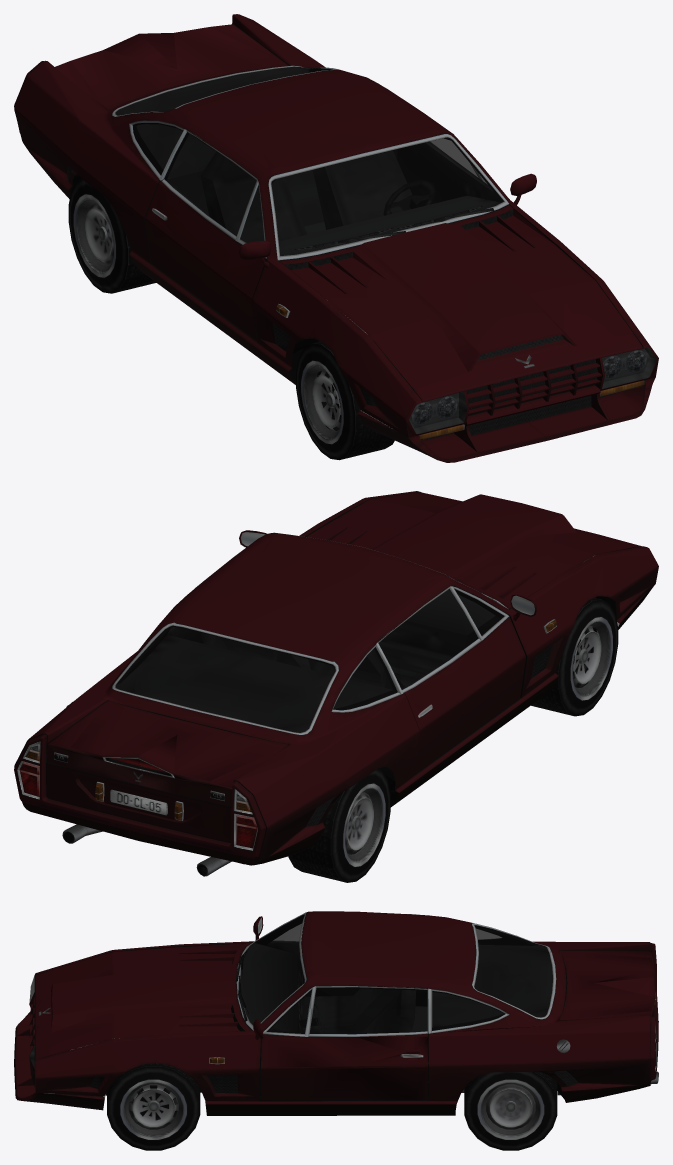
3 views of the same model, one above another, from view 1: azimuth 30°, elevation 25°; view 2: azimuth 150°, elevation 25°; view 3: azimuth 270°, elevation 25° (orthographic). The views are drawn at different scales.
Parts seen in each view (by area): view 1: Car6_hd_mesh_0, Car6_hd_mesh_4, Car6_hd_mesh_2, Car6_hd_mesh_5, Car6_hd_mesh_3, Car6_hd_mesh_6, Car6_hd_mesh_7, Car6_hd_mesh_1; view 2: Car6_hd_mesh_0, Car6_hd_mesh_4, Car6_hd_mesh_2, Car6_hd_mesh_5, Car6_hd_mesh_7, Car6_hd_mesh_6; view 3: Car6_hd_mesh_0, Car6_hd_mesh_4, Car6_hd_mesh_1, Car6_hd_mesh_6.001, Car6_hd_mesh_8, Car6_hd_mesh_5, Car6_hd_mesh_3, Car6_hd_mesh_2.
Part boxes in pixels (left/top/right/bottom): Car6_hd_mesh_0: left=14, top=14, right=658, bottom=437; Car6_hd_mesh_4: left=279, top=204, right=642, bottom=401; Car6_hd_mesh_2: left=145, top=130, right=266, bottom=340; Car6_hd_mesh_5: left=55, top=24, right=288, bottom=109; Car6_hd_mesh_3: left=357, top=377, right=655, bottom=462; Car6_hd_mesh_6: left=296, top=341, right=394, bottom=460; Car6_hd_mesh_7: left=68, top=178, right=156, bottom=293; Car6_hd_mesh_1: left=384, top=87, right=501, bottom=206; Car6_hd_mesh_0: left=14, top=491, right=658, bottom=876; Car6_hd_mesh_4: left=307, top=492, right=641, bottom=608; Car6_hd_mesh_2: left=378, top=586, right=525, bottom=774; Car6_hd_mesh_5: left=47, top=700, right=289, bottom=806; Car6_hd_mesh_7: left=288, top=768, right=390, bottom=882; Car6_hd_mesh_6: left=531, top=597, right=618, bottom=716; Car6_hd_mesh_0: left=29, top=911, right=658, bottom=1115; Car6_hd_mesh_4: left=35, top=942, right=252, bottom=1060; Car6_hd_mesh_1: left=260, top=986, right=428, bottom=1100; Car6_hd_mesh_6.001: left=107, top=1063, right=200, bottom=1150; Car6_hd_mesh_8: left=464, top=1072, right=557, bottom=1150; Car6_hd_mesh_5: left=559, top=950, right=654, bottom=1020; Car6_hd_mesh_3: left=14, top=1012, right=105, bottom=1110; Car6_hd_mesh_2: left=265, top=914, right=427, bottom=1006.
Bounding box in the file's own units: 2.04 × 1.33 × 4.88.
Materials: 33 (28 with a texture image).
